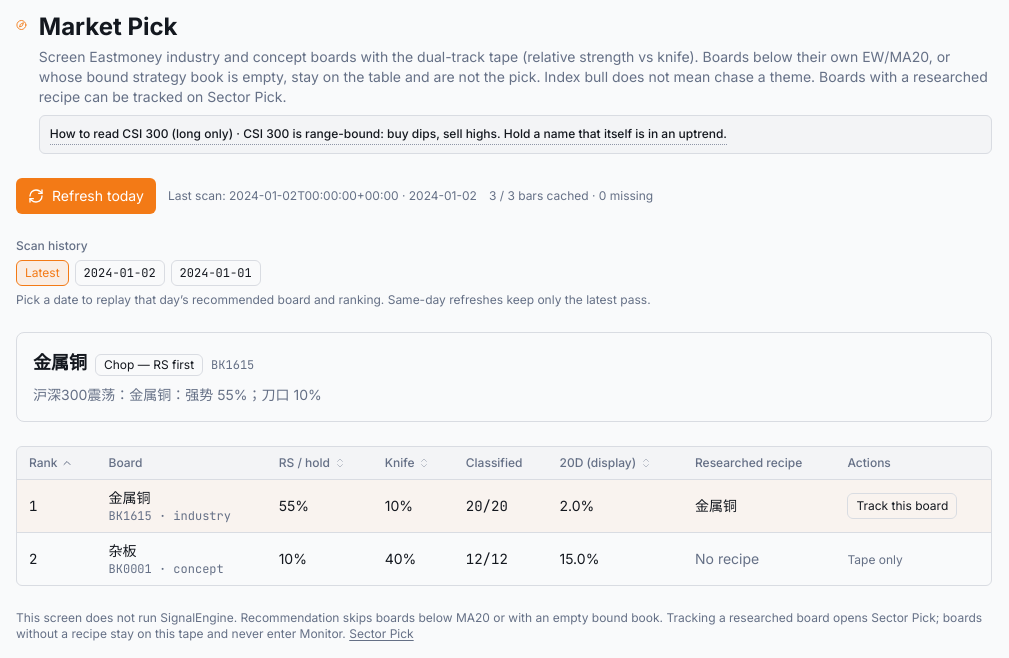
Test: MarketPick page › history day reloads that snapshot's ranking
Expected: the button "Latest" is shown, [16,260,69,286]
Click the button "2024-01-01" at (216, 272), box [171,260,261,286]
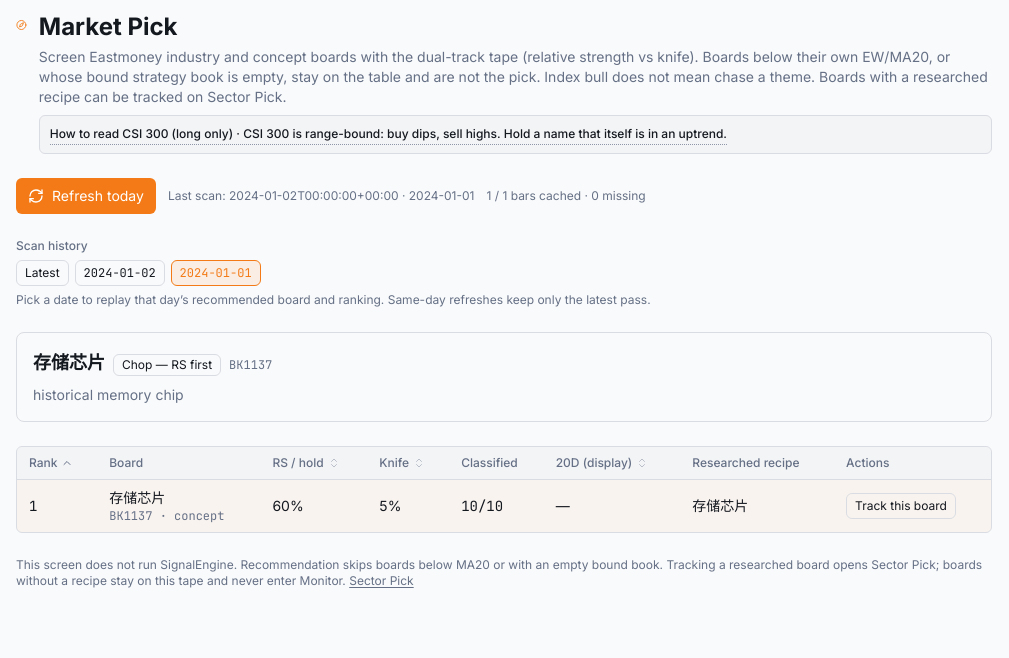
Now the text "historical memory chip" is shown, box [33,386,184,402]
Now the text "BK1137" is shown, box [229,356,272,372]
Click the button "Latest" at (42, 272), box [16,260,69,286]
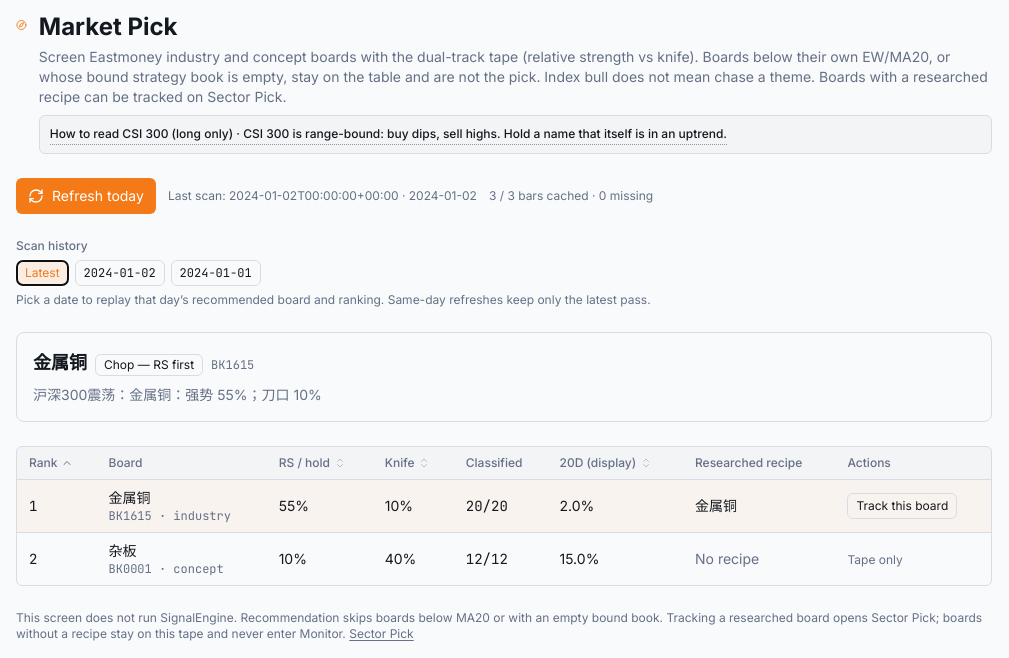
Now the text "沪深300震荡：金属铜：强势 55%；刀口 10%" is shown, box [33,386,322,402]
